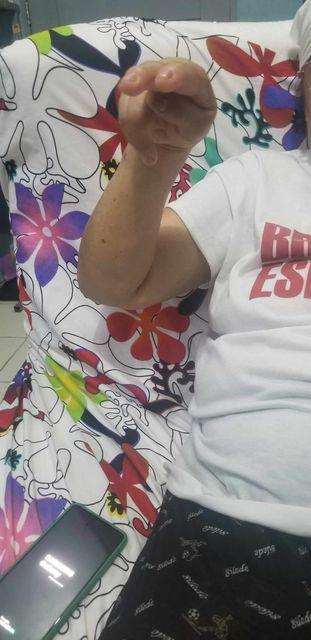n: (116, 59, 219, 166)
